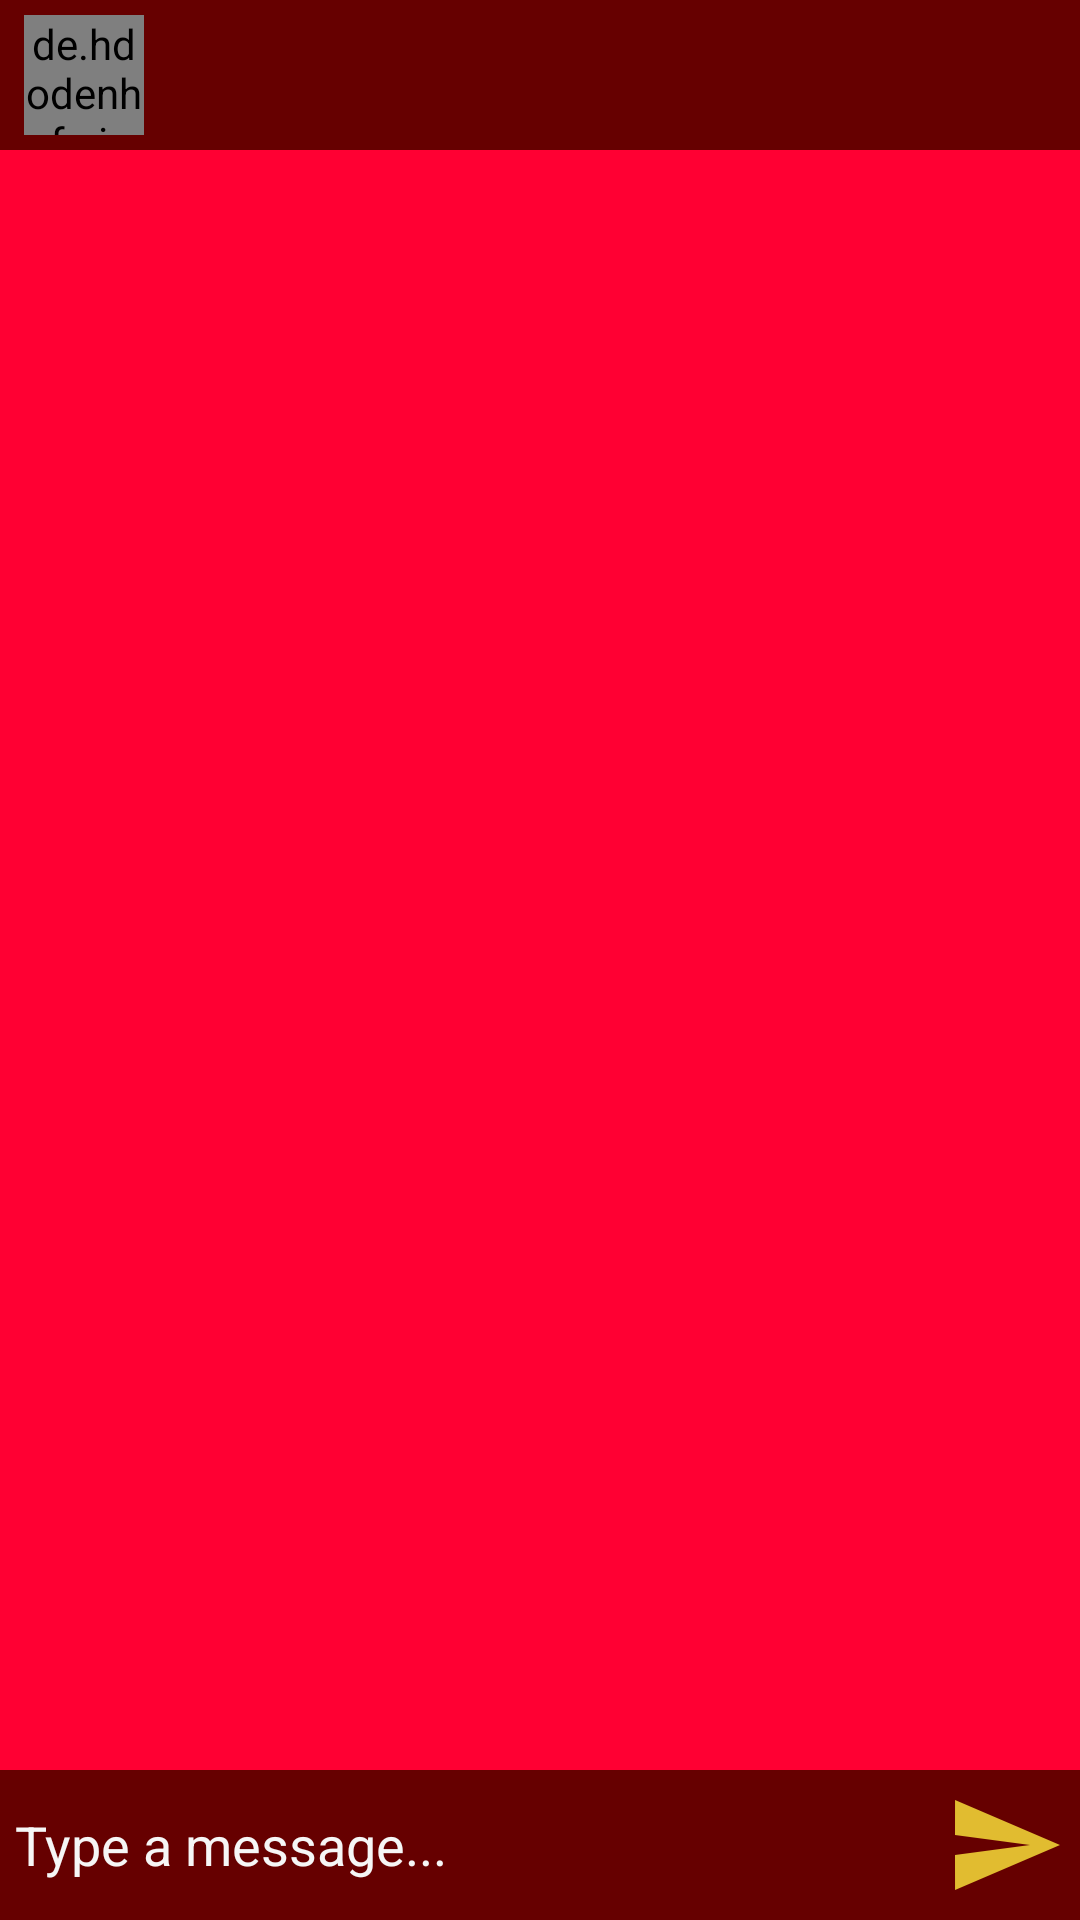

Screen size 1080*1920. Icon name, then its box in pixels as rect(x1, y1, x2, y2):
send: rect(955, 1800, 1060, 1890)
